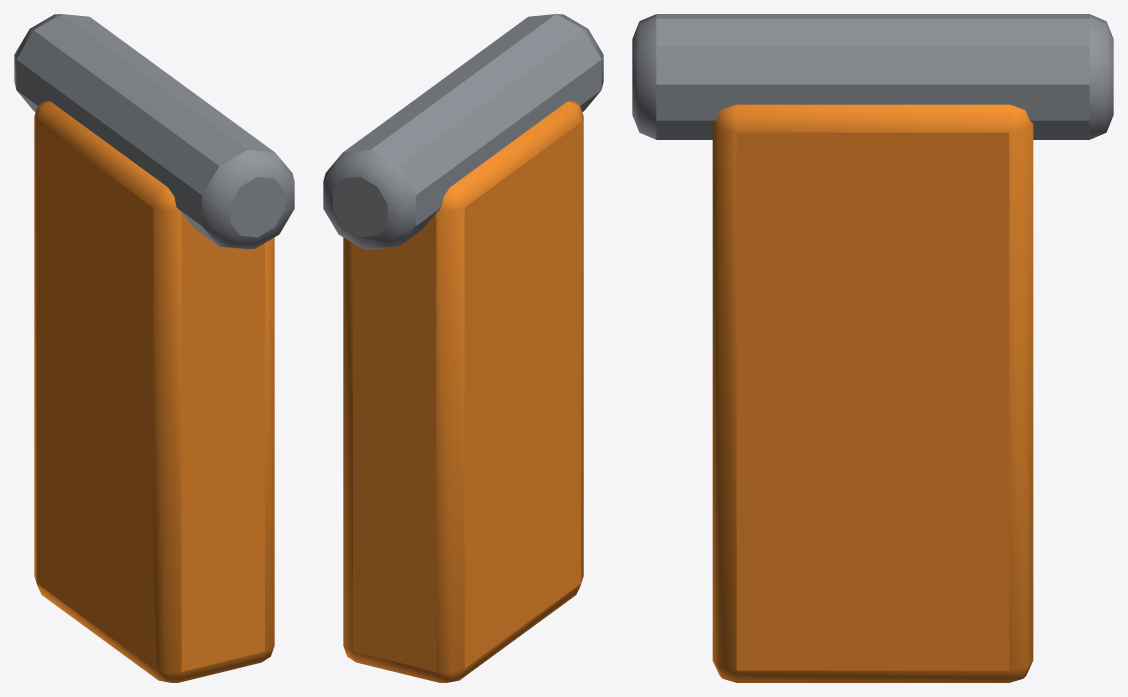
The model's file is shuttle_gate_l_a.obj.
3 views of the same model, side by side, from view 1: azimuth 30°, elevation 25°; view 2: azimuth 150°, elevation 25°; view 3: azimuth 270°, elevation 25° (orthographic). The views are drawn at different scales.
Parts seen in each view (by area): view 1: shuttle_gate_l_a; view 2: shuttle_gate_l_a; view 3: shuttle_gate_l_a.
Part boxes in pixels (x1=…): shuttle_gate_l_a: x1=14, y1=14, x2=294, y2=682; shuttle_gate_l_a: x1=323, y1=14, x2=603, y2=682; shuttle_gate_l_a: x1=632, y1=14, x2=1113, y2=682.
Bounding box in the file's own units: 0.01 × 0.044 × 0.03.
